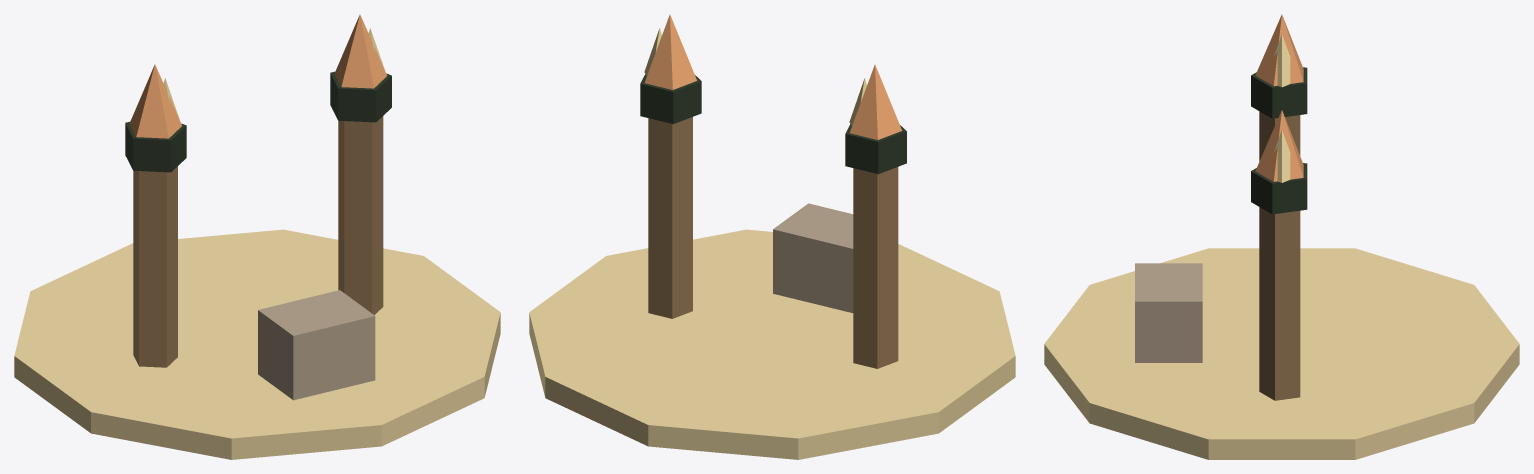
Rendered from jungle-g0.glb.
3 renders of one model, left to right at view 1: azimuth 30°, elevation 25°; view 2: azimuth 150°, elevation 25°; view 3: azimuth 270°, elevation 25°, orthographic. The views are drawn at different scales.
Parts seen in each view (by area): view 1: jungle-g0; view 2: jungle-g0; view 3: jungle-g0.
Part boxes in pixels (<box>): jungle-g0: <box>14,14,500,459</box>; jungle-g0: <box>529,14,1015,459</box>; jungle-g0: <box>1044,14,1519,459</box>.
Size of the model in its own units: 0.5992 by 0.4425 by 0.63.
